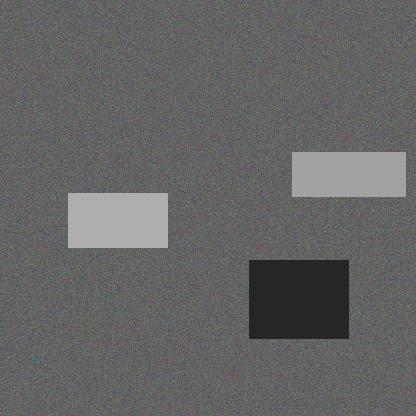empty: (283, 111, 357, 183), (281, 122, 327, 168)
occupied: (219, 236, 265, 317)
